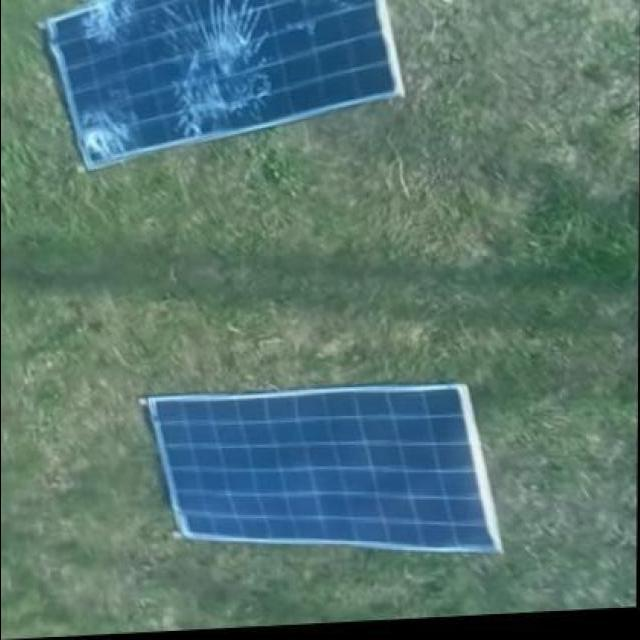cracked: (43, 3, 407, 171)
